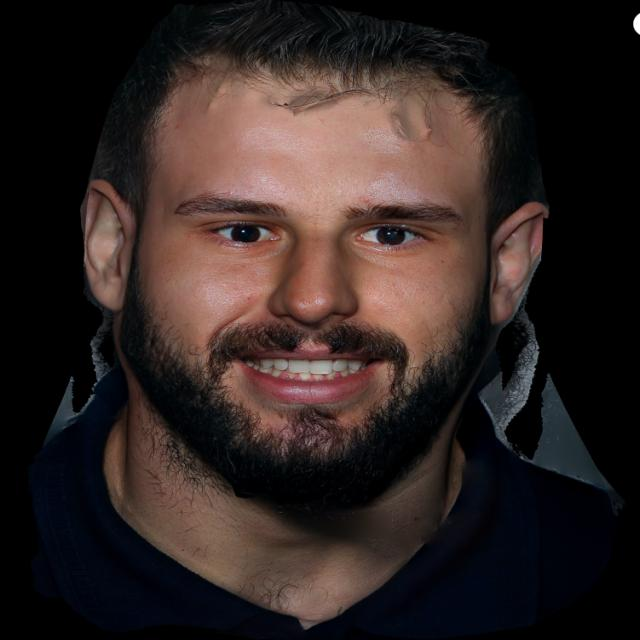11: (289, 360, 309, 373)
12: (274, 358, 288, 370)
13: (261, 359, 274, 369)
14: (256, 361, 261, 365)
21: (310, 360, 332, 374)
22: (333, 360, 347, 371)
23: (349, 360, 361, 370)
24: (361, 362, 366, 367)
31: (314, 374, 323, 381)
32: (327, 370, 336, 380)
33: (340, 368, 349, 377)
34: (349, 367, 357, 374)
35: (362, 366, 367, 371)
41: (299, 372, 310, 381)
42: (286, 368, 295, 379)
43: (272, 367, 280, 377)
44: (259, 365, 273, 373)
45: (253, 364, 260, 370)
46: (246, 360, 254, 367)
botom teeth: (240, 358, 377, 382)
top teeth: (242, 358, 377, 374)
